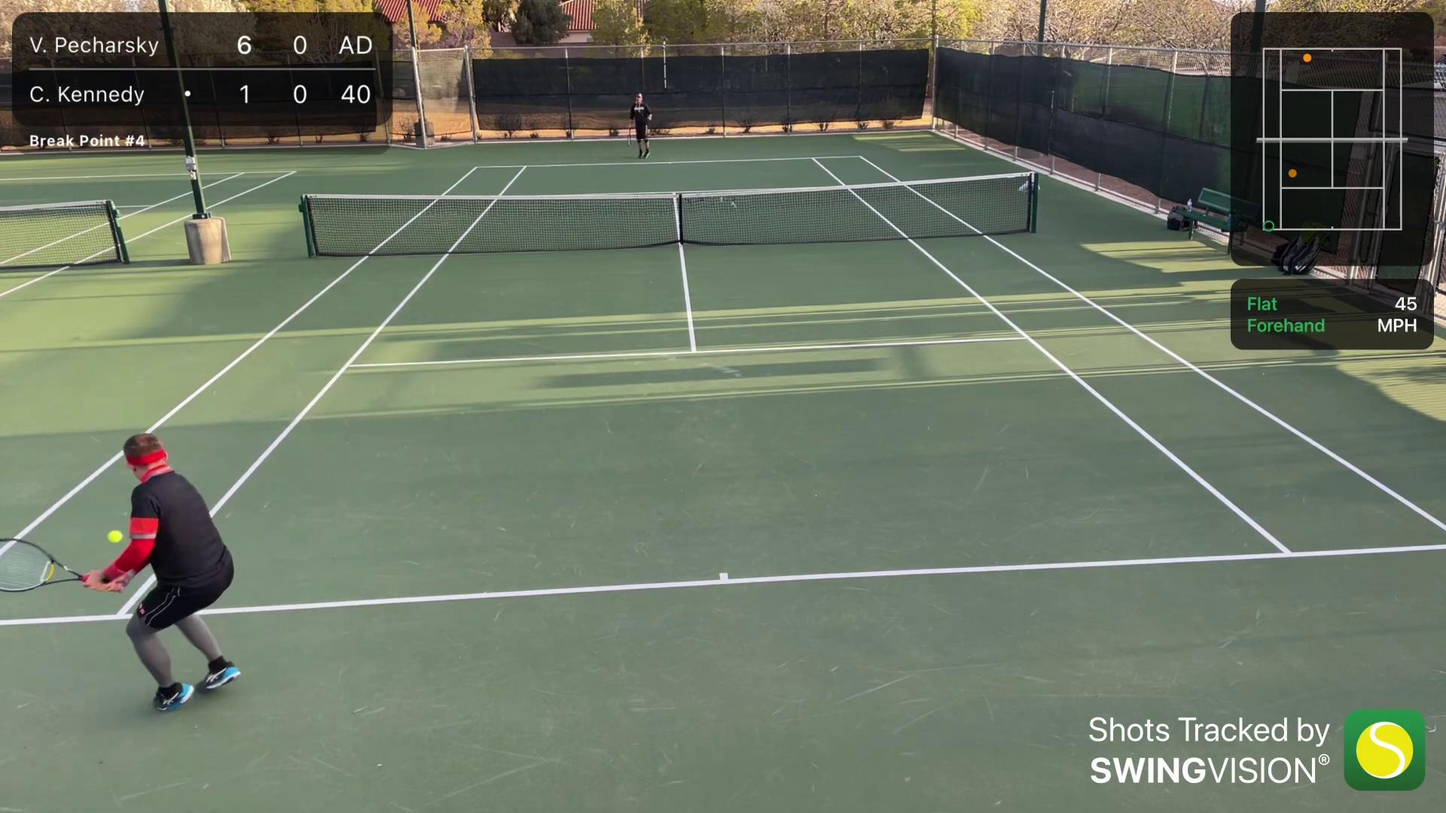ball: (104, 530, 125, 544)
